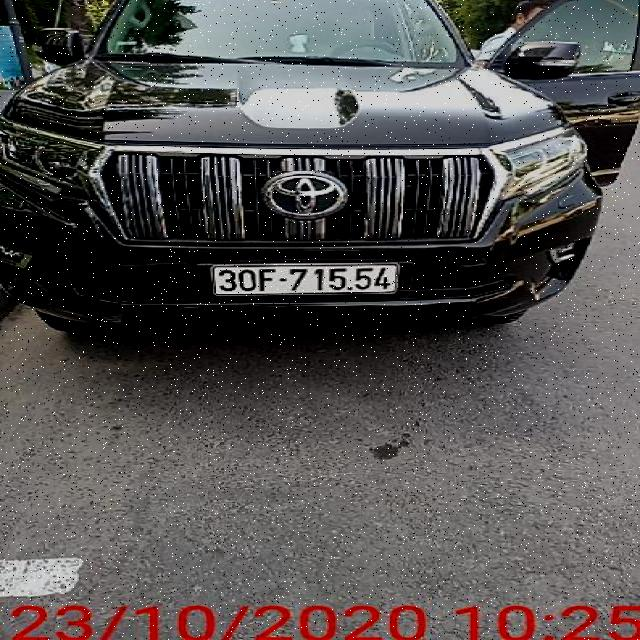0: (238, 268, 258, 292)
1: (311, 268, 327, 292)
3: (218, 269, 238, 292)
4: (372, 266, 392, 292)
5: (352, 266, 374, 291), (326, 266, 348, 290)
7: (290, 268, 308, 291)
F: (258, 268, 278, 292)
